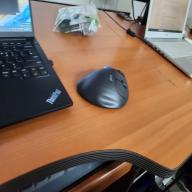mouse: (78, 65, 130, 110)
